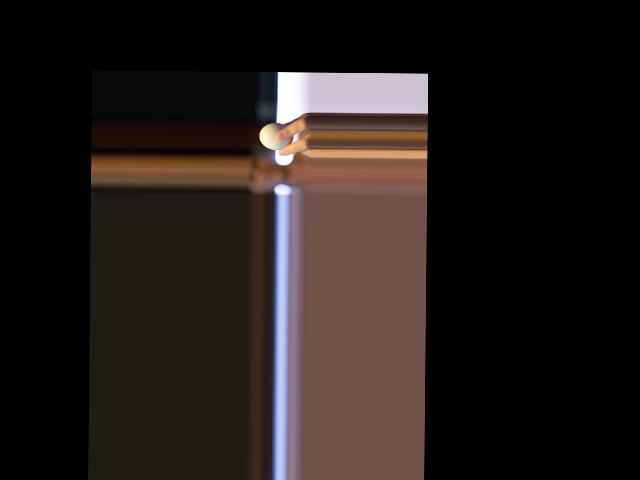egg: (259, 123, 294, 150)
